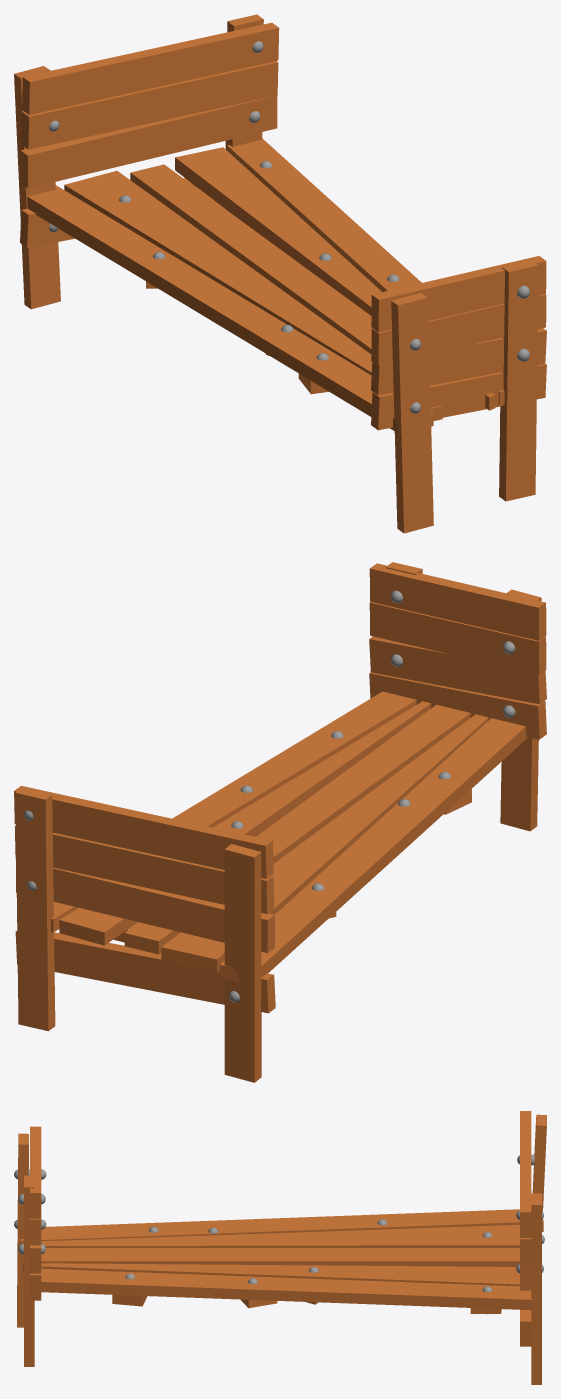
File: FloorWall.fbx
The picture shows the model from 3 angles, top to bottom: view 1: azimuth 30°, elevation 25°; view 2: azimuth 150°, elevation 25°; view 3: azimuth 270°, elevation 25°; orthographic projection. The views are drawn at different scales.
Parts seen in each view (by area): view 1: Cube.005, Cube.020, Cube.017, Sphere.011; view 2: Cube.020, Cube.005, Cube.017, Sphere.011; view 3: Cube.005, Cube.020, Cube.017, Sphere.011.
Part boxes in pixels (x1,y1,x2,y2): Cube.005: (20, 138, 504, 433); Cube.020: (14, 14, 279, 309); Cube.017: (371, 256, 546, 533); Sphere.011: (49, 41, 529, 413); Cube.020: (14, 785, 275, 1082); Cube.005: (51, 691, 527, 984); Cube.017: (369, 562, 546, 831); Sphere.011: (24, 590, 515, 1002); Cube.005: (20, 1209, 543, 1313); Cube.020: (520, 1111, 546, 1384); Cube.017: (17, 1126, 41, 1366); Sphere.011: (14, 1154, 544, 1314).
Bounding box in the file's own units: 231 × 204 × 534.
